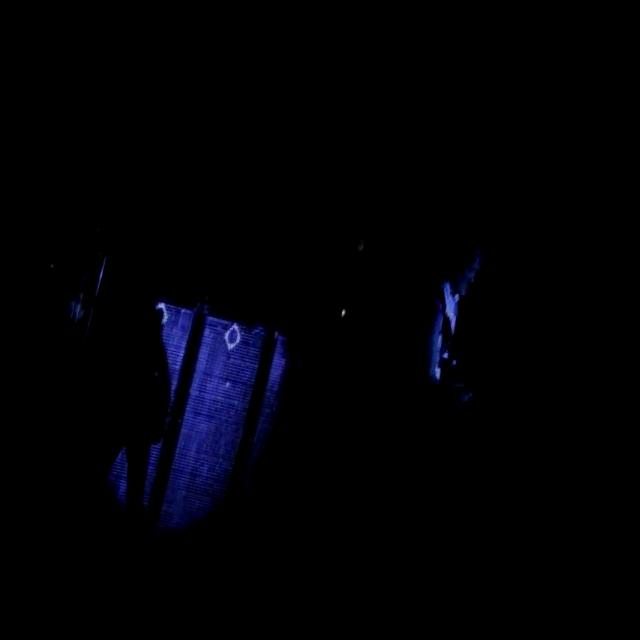Person: (377, 209, 512, 474)
